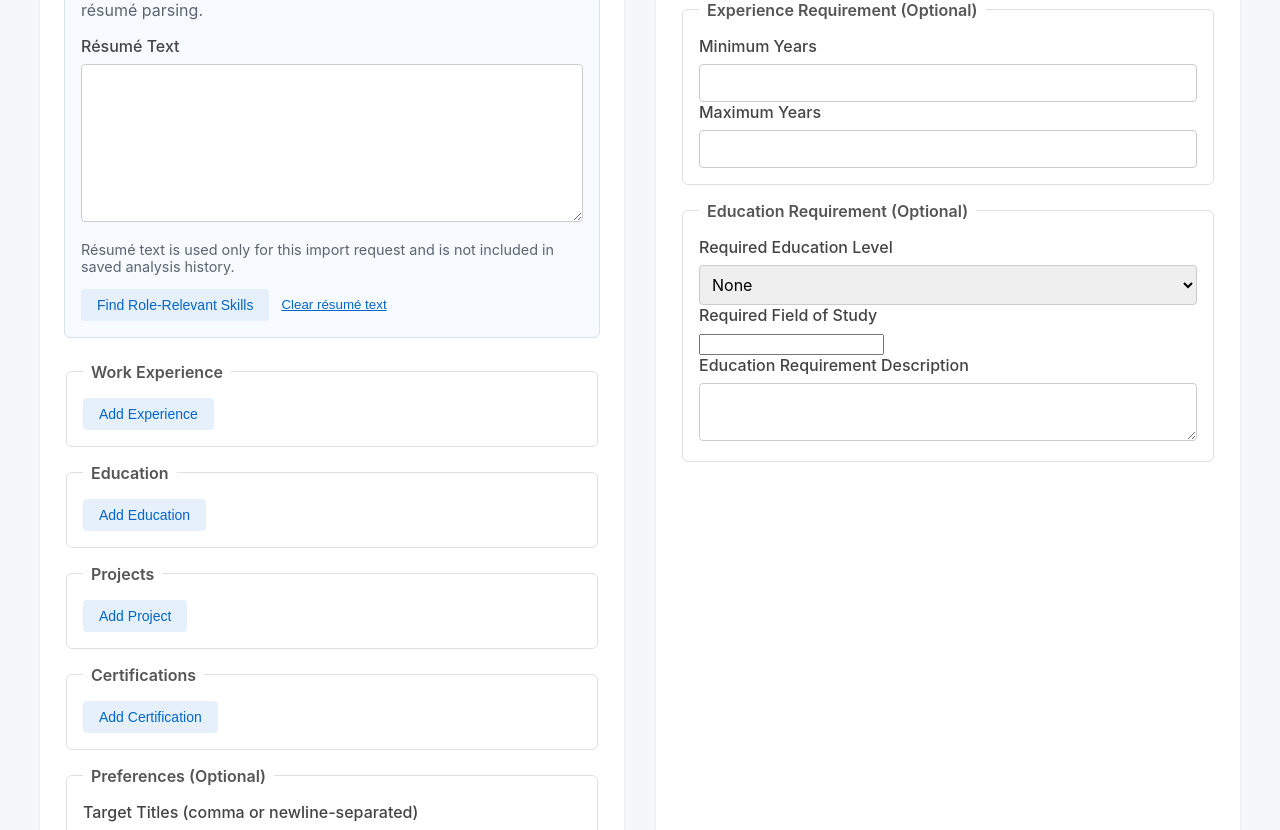
it: AnalysisForm › adds and removes Experience entries
The width and height of the screenshot is (1280, 830).
(page scrolled)
Click the button "Add Experience". click: (148, 414)
box: [83,398,214,430]
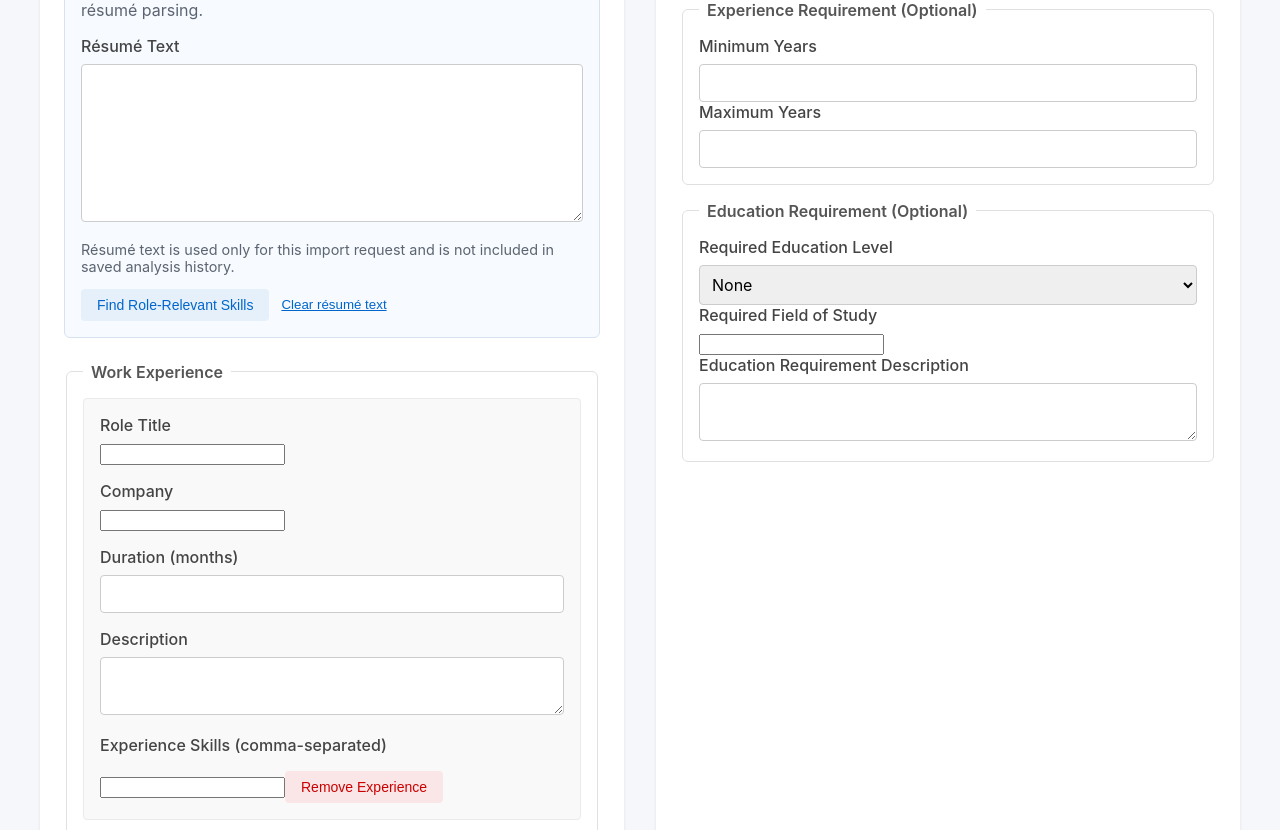
Check: the field labelled "Role Title" is shown, box [100,444,285,465]
Click the button "Remove Experience". click: (364, 787)
box: [285,771,443,803]
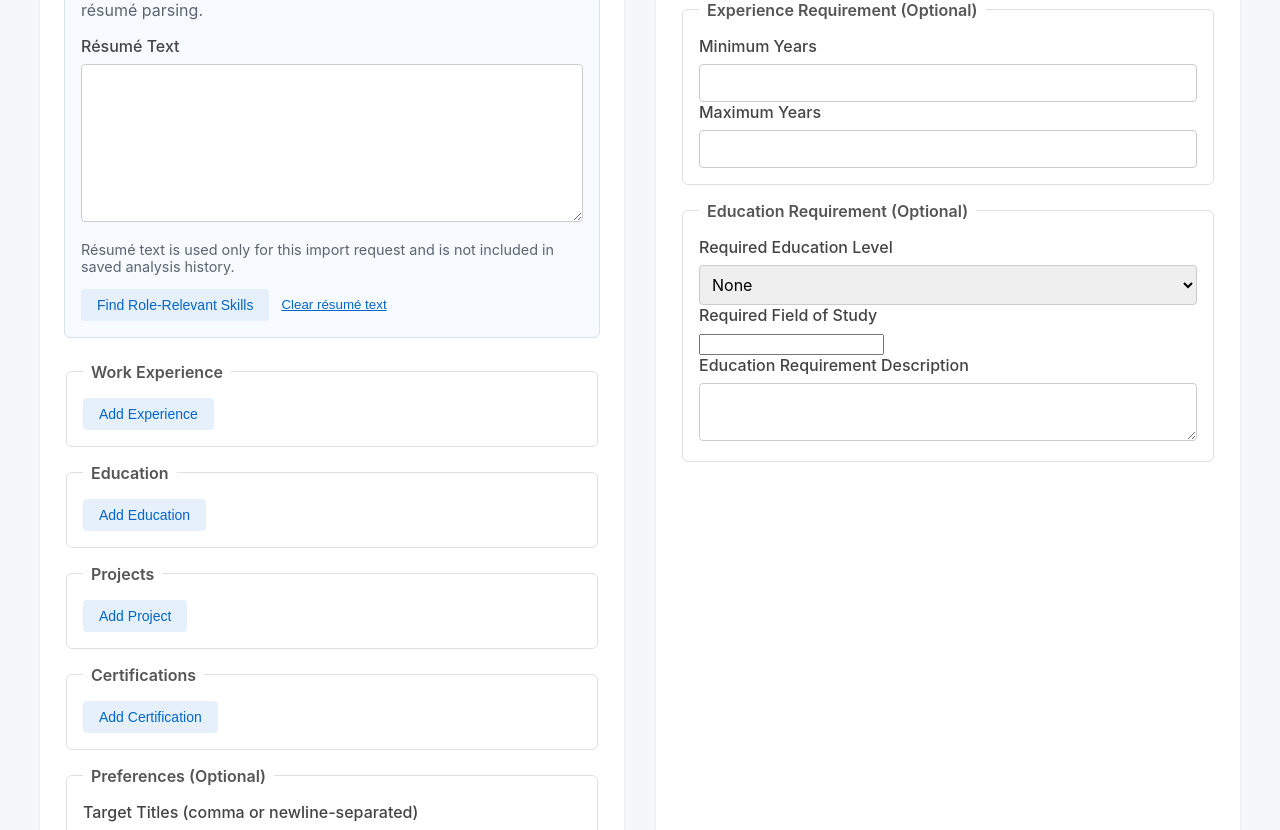
Check: the label labelled "Role Title" is gone
